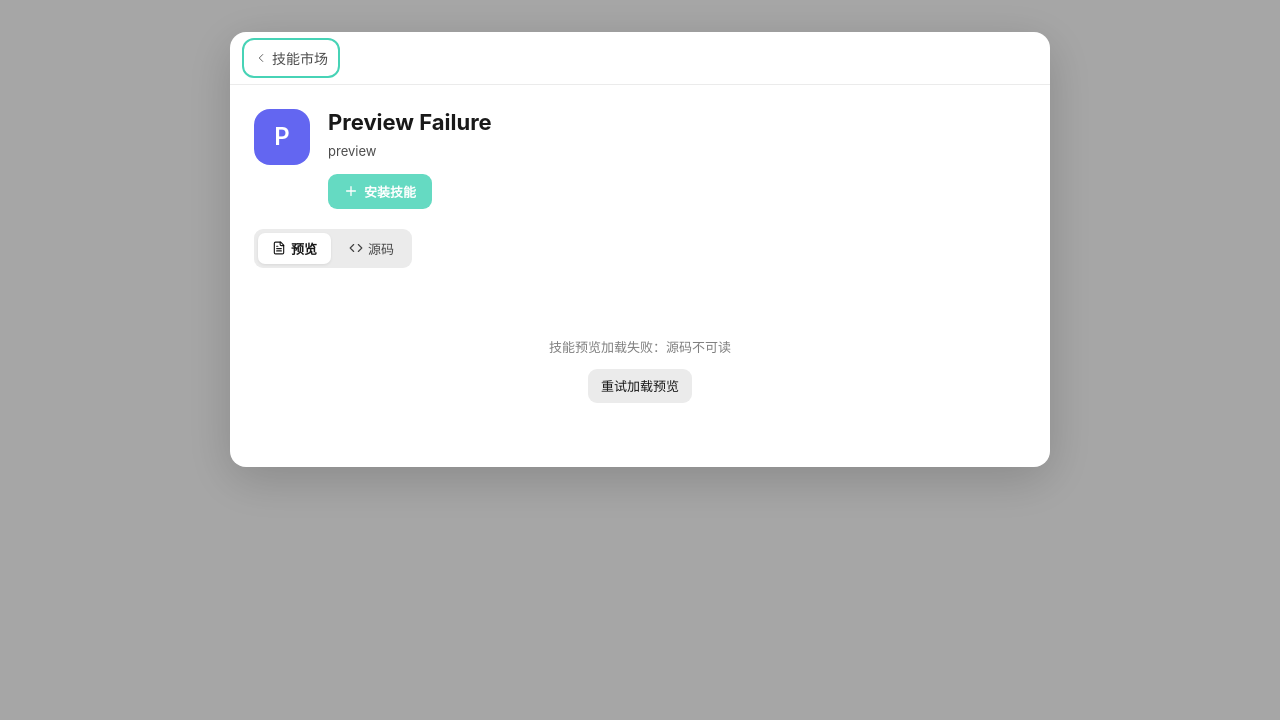
Scenario: 本地 Skills / MCP 完整流程 › Skill 预览失败时显示重试且禁止安装
This screenshot has width=1280, height=720.
Expected: the message shows "技能预览加载失败：源码不可读", [549,339,731,403]
Expected: the button "安装技能" is disabled, [328,174,432,209]
Click the button "重试加载预览": (640, 386) [588,369,692,403]
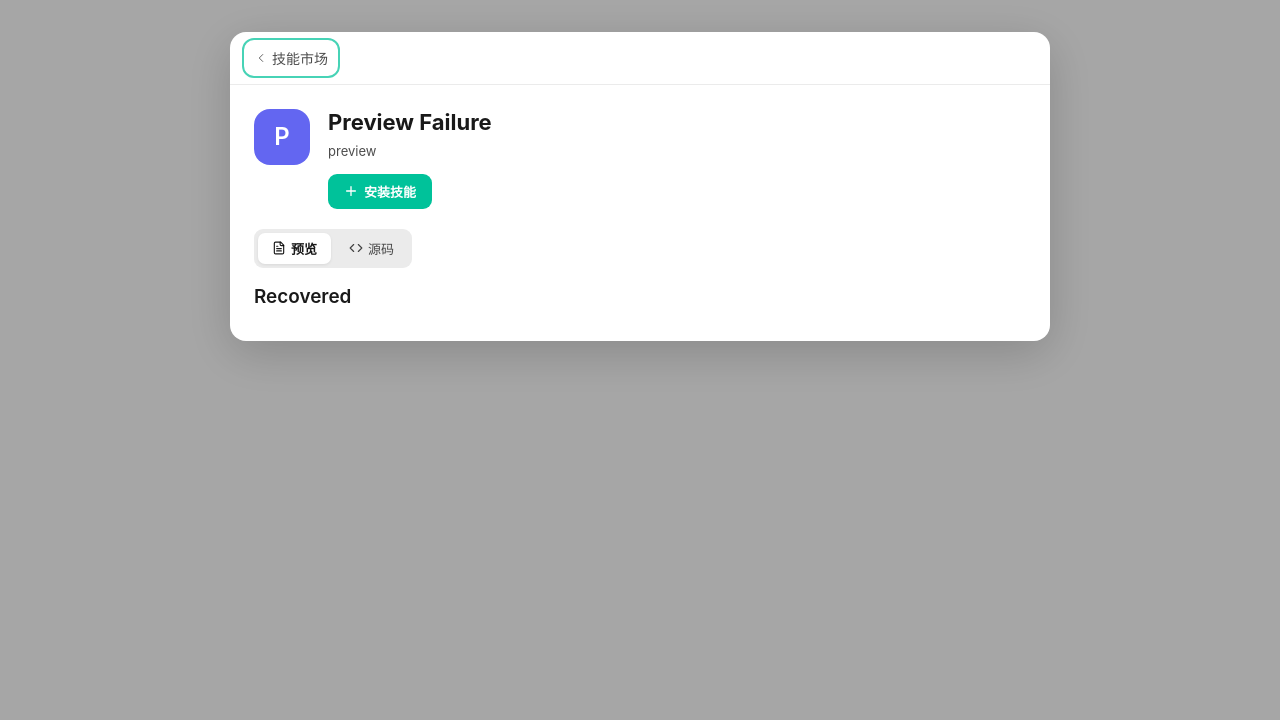
Result: the heading "Recovered" is shown at [254,285,351,308]
Result: the button "安装技能" is enabled at [328,174,432,209]
